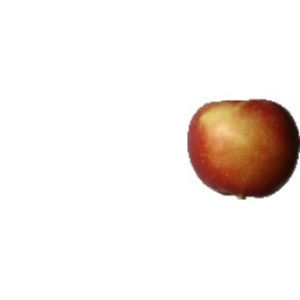maçã braeburn: (187, 100, 300, 195)
